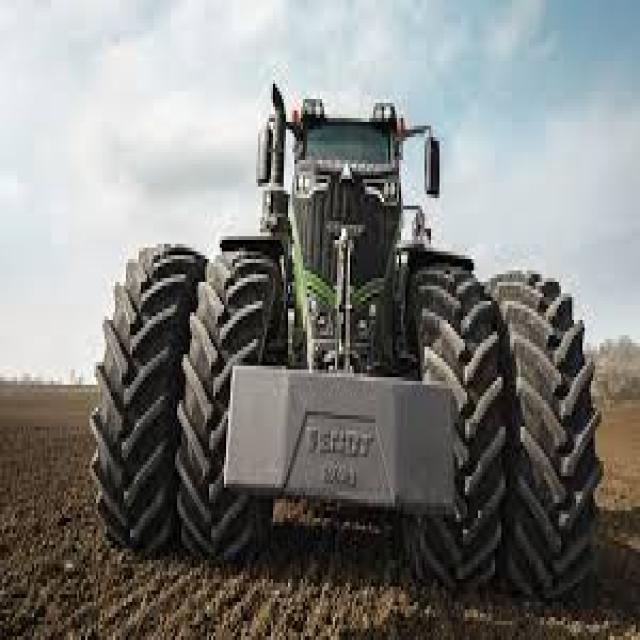Tratores - v5 YOLO V8L 2024-11-13: (90, 97, 604, 614)
